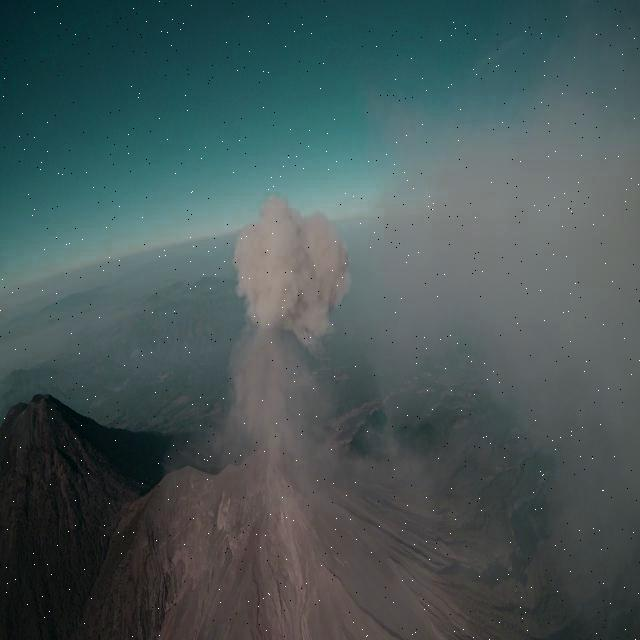Plume: (222, 190, 354, 348)
